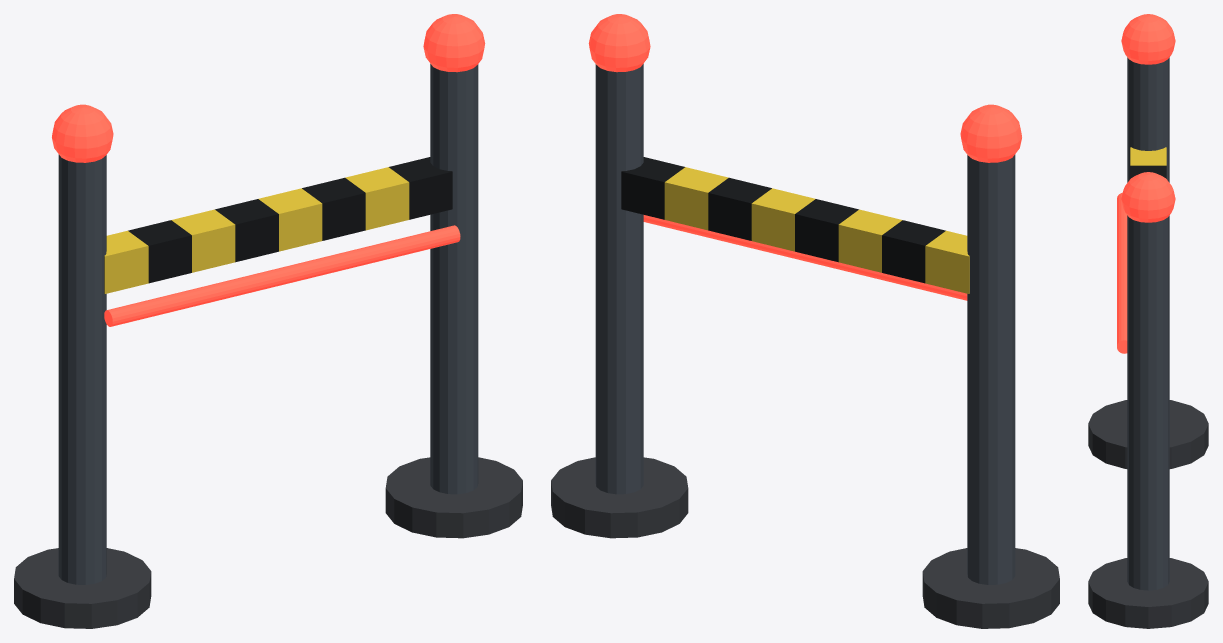
The model's file is slide-bar-lod0.glb.
The picture shows the model from 3 angles, left to right: view 1: azimuth 30°, elevation 25°; view 2: azimuth 150°, elevation 25°; view 3: azimuth 270°, elevation 25°; orthographic projection. The views are drawn at different scales.
Visible parts, largest first — view 1: slide-bar; view 2: slide-bar; view 3: slide-bar.
Boxes of the visible parts, x1,y1,x2,y2 form: slide-bar: (14, 14, 522, 628); slide-bar: (551, 14, 1059, 628); slide-bar: (1088, 14, 1208, 628).
Size of the model in its own units: 1.64 by 1.57 by 0.4.
